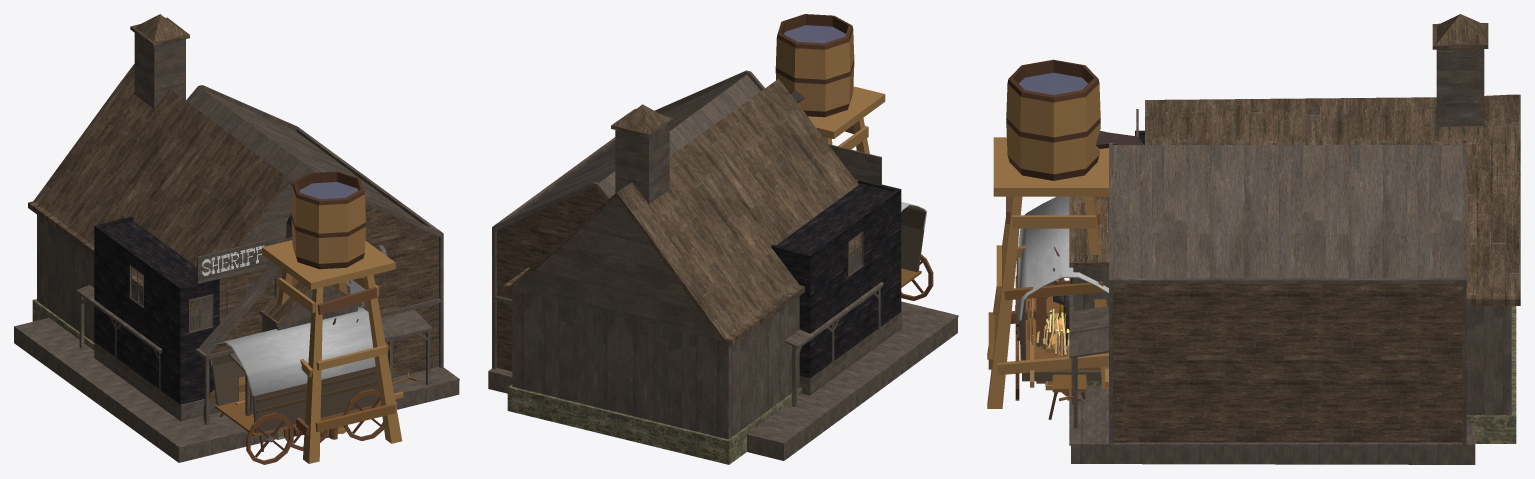
File: scenery.glb
3 views of the same model, side by side, from view 1: azimuth 30°, elevation 25°; view 2: azimuth 150°, elevation 25°; view 3: azimuth 270°, elevation 25° (orthographic). The views are drawn at different scales.
Parts seen in each view (by area): view 1: Cube.166, Cube.148, WaterTower, Cube.160, WesternCart.001, Cube.149, Cube.154, Cube.128, Cube.146, Cube.137, Text.005, WesternCart; view 2: Cube.166, Cube.148, Cube.160, WaterTower, Cube.149, Cube.154, WesternCart.001, Cube.128; view 3: Cube.148, Cube.149, Cube.166, WaterTower, WesternCart.001, Cube.128, Cube.137, Tumbleweed, WesternCart, OldBench, Cube.154, PostSIgn.
Part boxes in pixels (box(x1,y1,x2,y2)): Cube.166: box(28, 14, 362, 439); Cube.148: box(14, 85, 459, 462); WaterTower: box(262, 171, 402, 463); Cube.160: box(94, 216, 219, 404); WesternCart.001: box(203, 308, 417, 464); Cube.149: box(211, 203, 438, 377); Cube.154: box(94, 239, 385, 439); Cube.128: box(76, 285, 432, 409); Cube.146: box(219, 267, 267, 322); Cube.137: box(228, 284, 393, 415); Text.005: box(202, 245, 264, 276); WesternCart: box(235, 376, 403, 450); Cube.166: box(503, 79, 860, 464); Cube.148: box(488, 70, 958, 460); Cube.160: box(770, 180, 901, 378); WaterTower: box(775, 14, 885, 153); Cube.149: box(497, 186, 606, 371); Cube.154: box(799, 144, 927, 395); WesternCart.001: box(901, 202, 933, 300); Cube.128: box(784, 282, 883, 406); Cube.148: box(1069, 141, 1475, 464); Cube.149: box(1113, 284, 1462, 442); Cube.166: box(1069, 14, 1520, 443); WaterTower: box(987, 59, 1143, 408); WesternCart.001: box(1015, 196, 1108, 401); Cube.128: box(1069, 328, 1108, 427); Cube.137: box(1069, 295, 1108, 404); Tumbleweed: box(1035, 309, 1069, 356); WesternCart: box(1027, 298, 1108, 387); OldBench: box(1048, 374, 1086, 419); Cube.154: box(1069, 109, 1138, 400); PostSIgn: box(1036, 278, 1070, 383).
Size of the model in its own units: 9.07 by 9.26 by 12.19.
16 materials, 15 textured.
